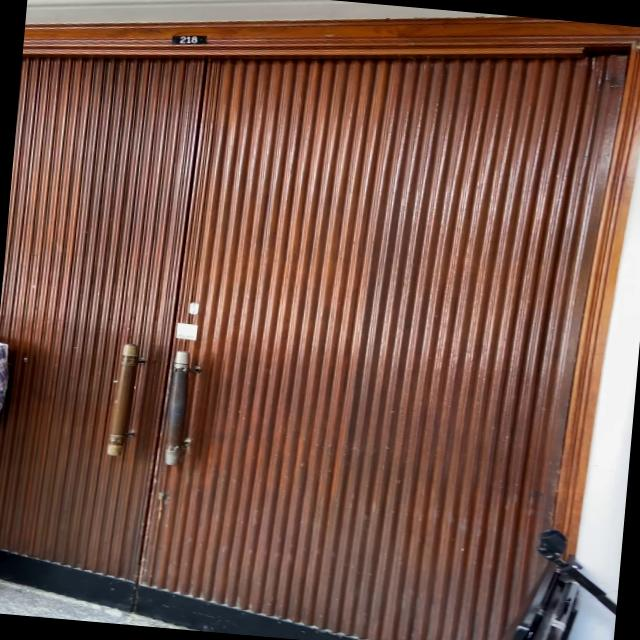room218: (168, 31, 210, 49)
